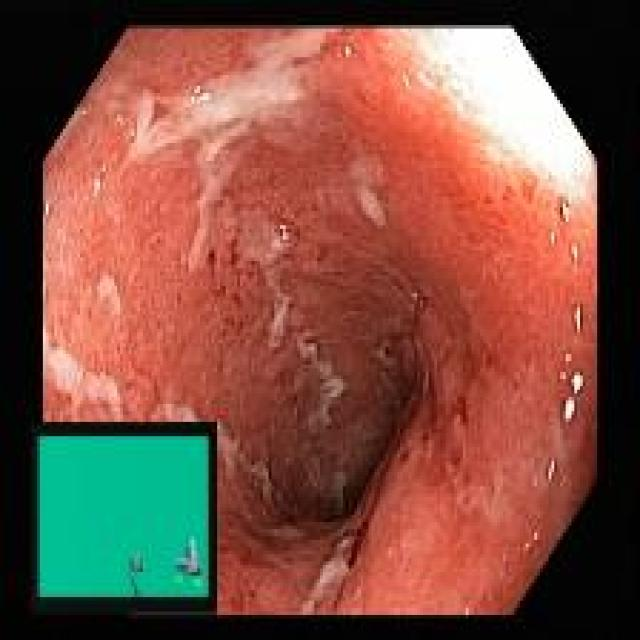ulcerative-colitis: (44, 28, 598, 616)
